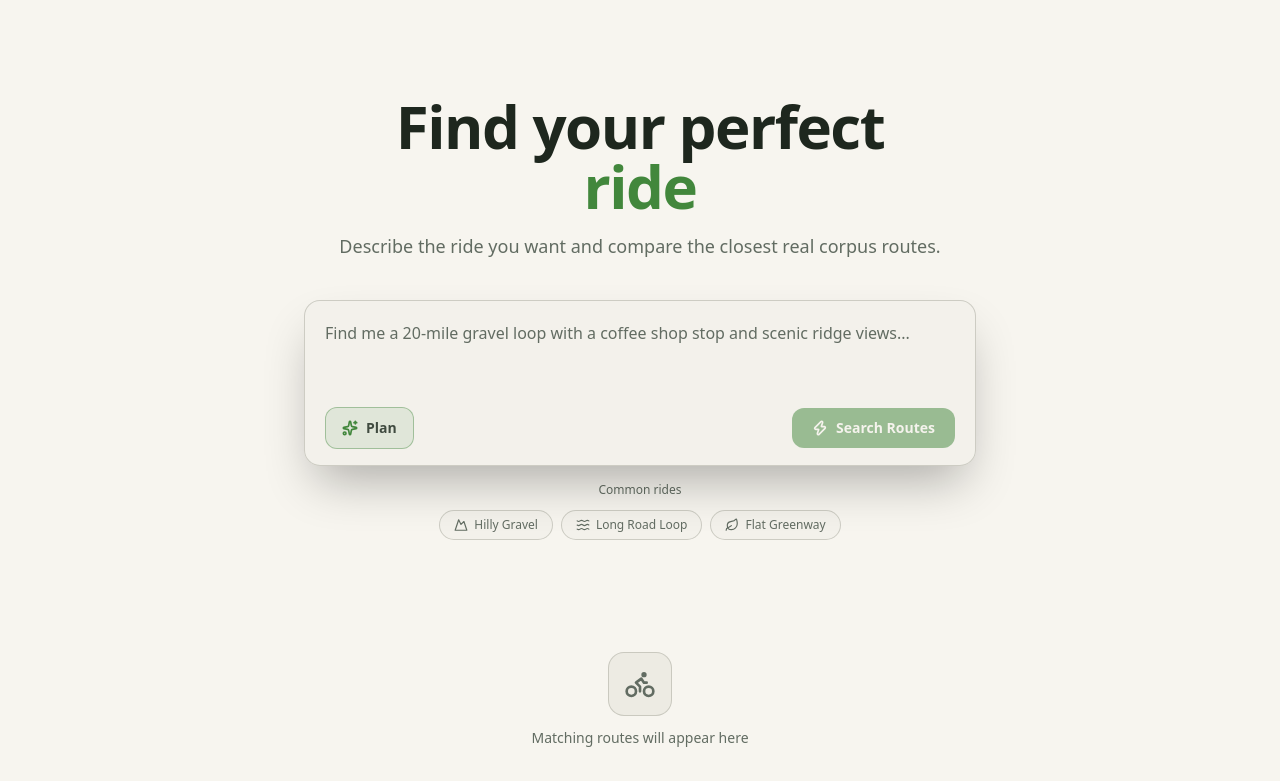
Scenario: GeneratePage › shows relaxed-filter notice from the API response
Replace the text in the text box with "200 km loop" at (640, 353), box x1=309 y1=305 x2=971 y2=401
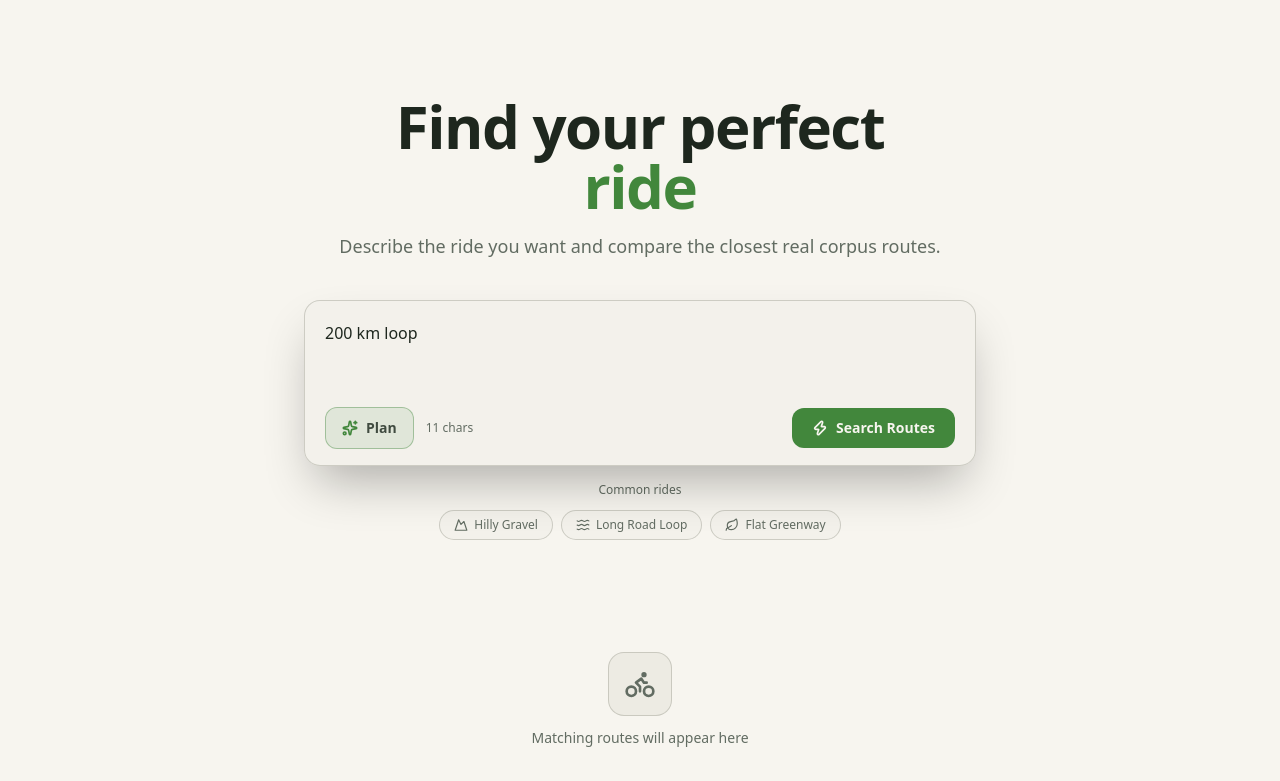
Click the button "Search Routes".
click(874, 428)  # box x1=792 y1=408 x2=955 y2=448
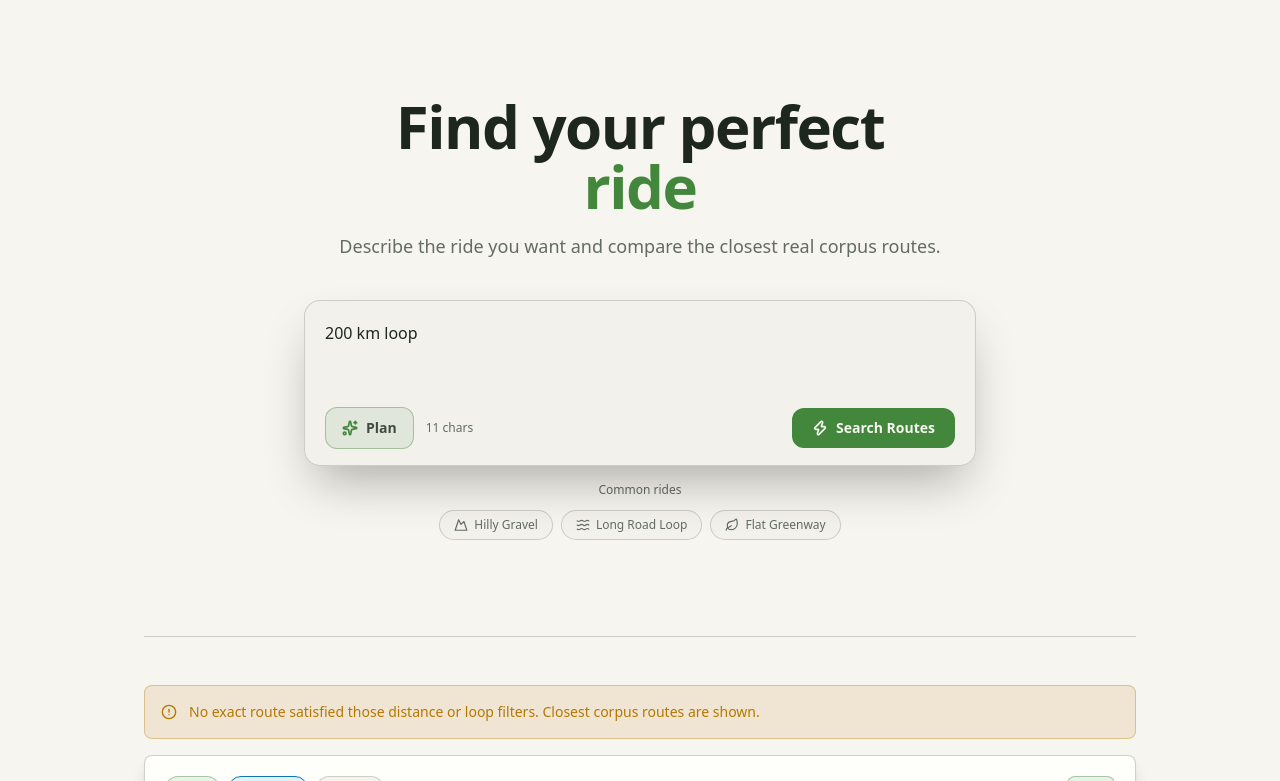
Expected: the text "No exact route satisfied" is shown, x1=189 y1=702 x2=760 y2=721
